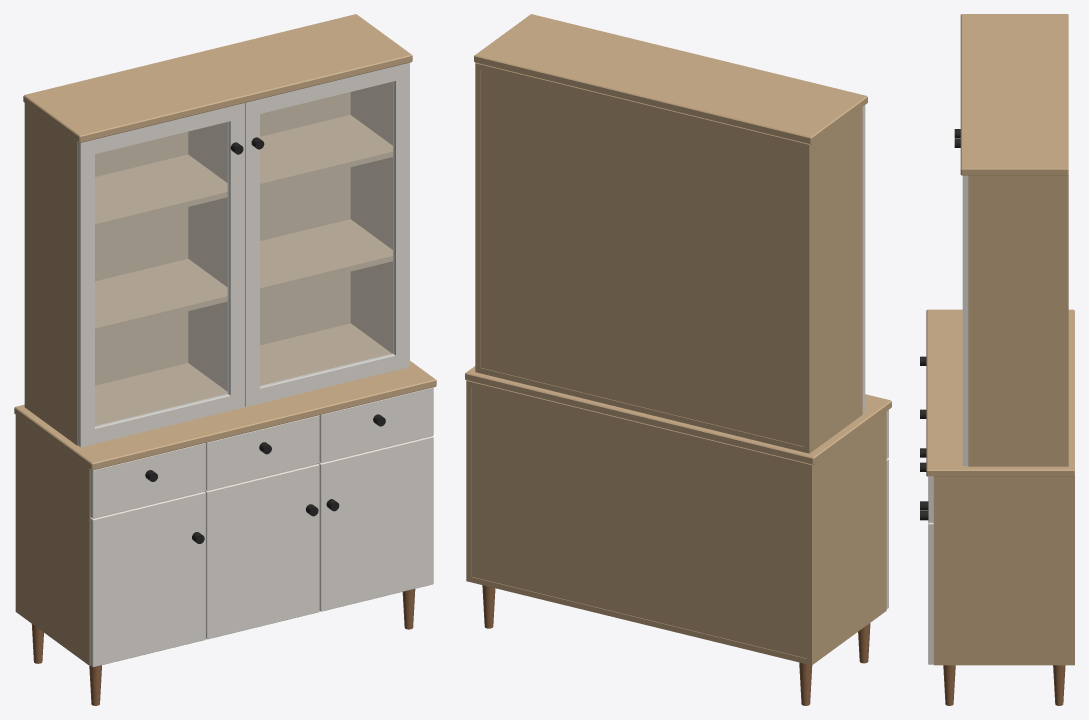
The model's file is 38_kredens_120.glb.
3 renders of one model, left to right at view 1: azimuth 30°, elevation 25°; view 2: azimuth 150°, elevation 25°; view 3: azimuth 270°, elevation 25°, orthographic. The views are drawn at different scales.
Parts seen in each view (by area): view 1: Nadstawka, Nadstawka_Korpus, Nadstawka_Wierzch, Front_drzwi_2, Front_drzwi_6, Front_drzwi_4, Korpus, Wierzch, Front_szuflada_1, Front_szuflada_5, Front_szuflada_3, Nogi (+1 smaller); view 2: Nadstawka_Korpus, Korpus, Nadstawka_Wierzch, Wierzch, Nogi, Nadstawka; view 3: Nadstawka_Korpus, Korpus, Nadstawka_Wierzch, Wierzch, Nadstawka, Nogi, Front_drzwi_6, Uchwyty, Front_szuflada_5.
Part boxes in pixels (x1,y1,x2,y2): Nadstawka: (77,62,409,447); Nadstawka_Korpus: (24,81,392,445); Nadstawka_Wierzch: (23,14,412,142); Front_drzwi_2: (90,491,205,667); Front_drzwi_6: (318,436,433,611); Front_drzwi_4: (205,464,319,639); Korpus: (15,415,91,665); Wierzch: (14,361,436,470); Front_szuflada_1: (90,443,205,518); Front_szuflada_5: (319,387,433,462); Front_szuflada_3: (206,415,319,490); Nogi: (31,589,415,705); Nadstawka_Korpus: (475,63,862,453); Korpus: (466,380,886,665); Nadstawka_Wierzch: (474,14,867,144); Wierzch: (465,366,891,464); Nogi: (482,585,870,705); Nadstawka: (862,105,865,413); Nadstawka_Korpus: (968,175,1068,466); Korpus: (933,476,1074,665); Nadstawka_Wierzch: (960,14,1068,175); Wierzch: (926,309,1074,476); Nadstawka: (962,175,968,465); Nogi: (943,665,1065,705); Front_drzwi_6: (928,522,933,664); Uchwyty: (920,356,928,520); Front_szuflada_5: (928,476,933,522).
Size of the model in its own units: 1.21 by 1.9 by 0.494.
